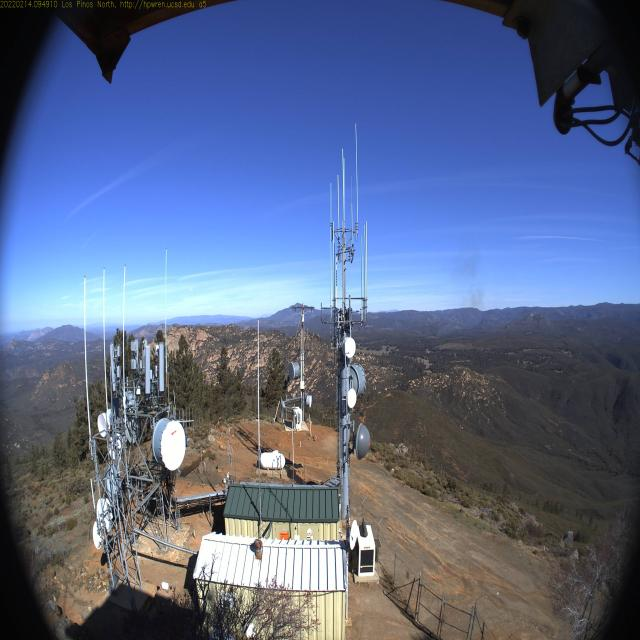smoke: (453, 248, 485, 330), (435, 314, 455, 337)
